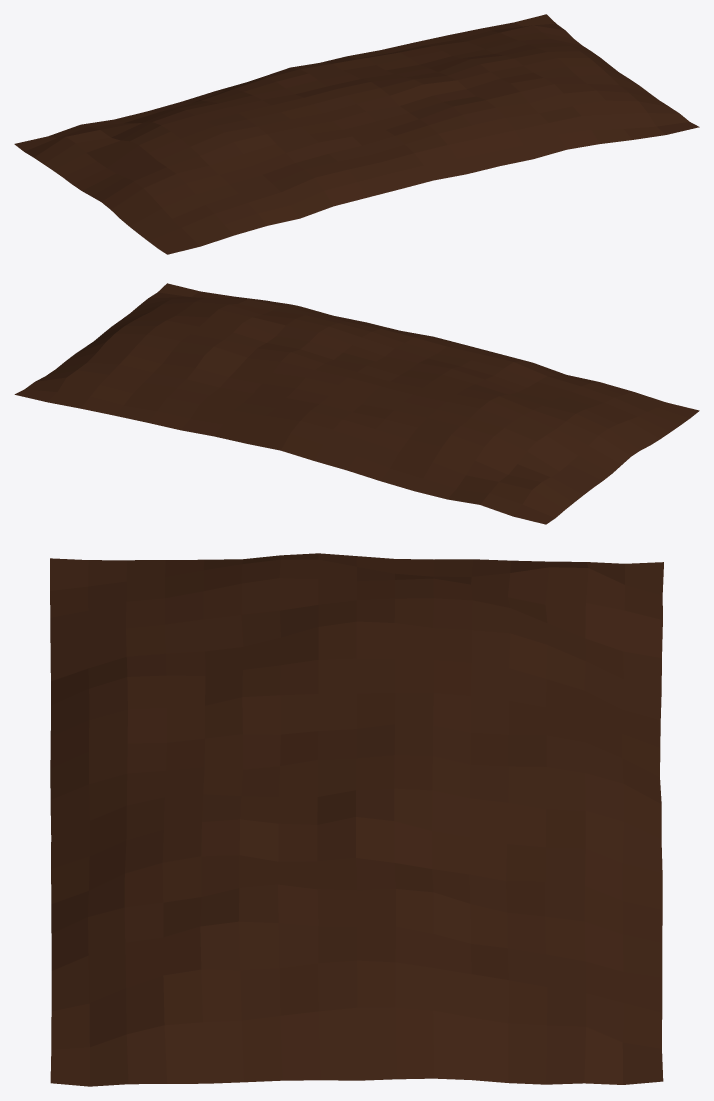
The model's file is Dirt 1.fbx.
3 renders of one model, top to bottom at view 1: azimuth 30°, elevation 25°; view 2: azimuth 150°, elevation 25°; view 3: azimuth 270°, elevation 25°, orthographic. The views are drawn at different scales.
Visible parts, largest first — view 1: Plane.002; view 2: Plane.002; view 3: Plane.002.
Boxes of the visible parts, left/top/right/bottom form: Plane.002: left=14, top=14, right=699, bottom=254; Plane.002: left=14, top=283, right=699, bottom=524; Plane.002: left=50, top=553, right=663, bottom=1086.
Size of the model in its own units: 29.98 by 2.04 by 14.97.
